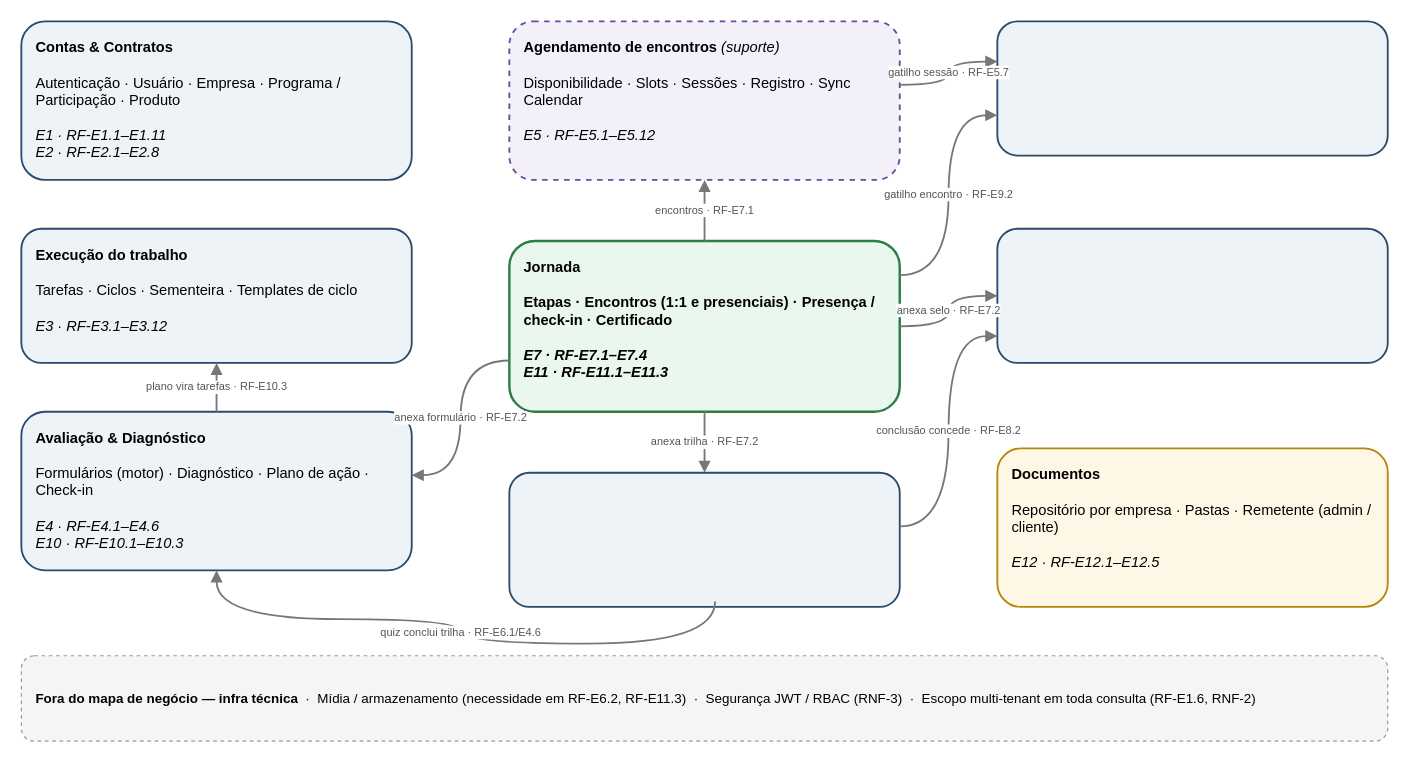
Some shapes in this 1410 by 764 pixel diagram are drawn without their labels. The shapes that lost their labels are listed below. From the top down, each one's centre as x and y in pixels, then its label:
At point 1192,88: "Comunicação Modelos de mensagem · Disparos (WhatsApp) E9 · RF-E9.1–E9.3".
At point 1192,295: "Reconhecimento Selos · Critérios · Concessão E8 · RF-E8.1–E8.3".
At point 704,539: "Aprendizagem Trilhas · Itens · Progresso E6 · RF-E6.1–E6.4".
